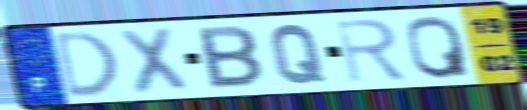B: (194, 24, 266, 91)
D: (51, 28, 121, 101)
Q: (404, 13, 473, 81), (268, 22, 329, 86)
R: (332, 16, 411, 86)
X: (114, 25, 193, 97)
